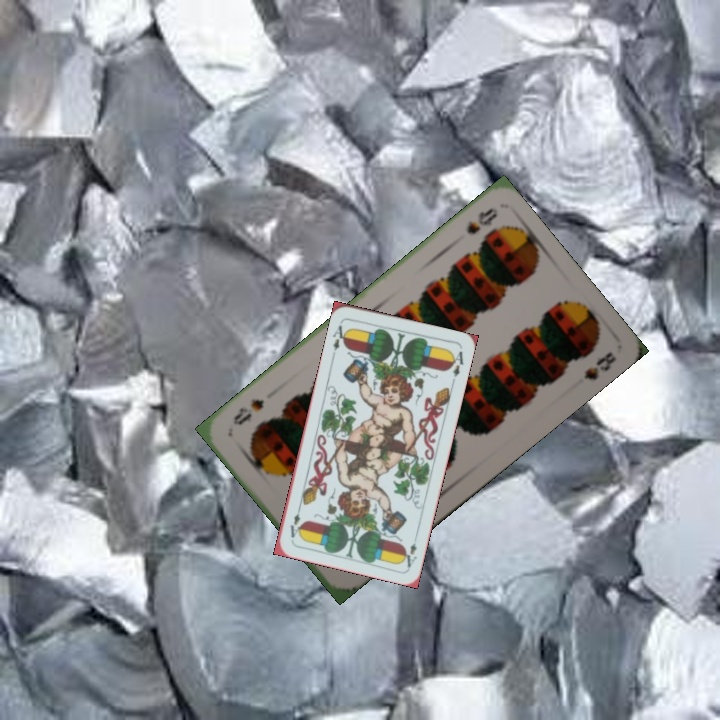EA: (328, 318, 351, 358), (399, 530, 420, 570)
S8: (462, 203, 500, 237)
